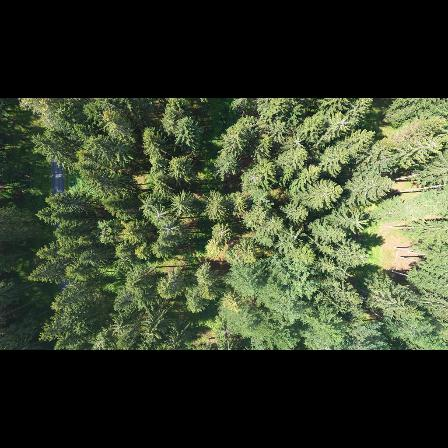Sick: (212, 221, 234, 243), (287, 134, 308, 154), (152, 205, 169, 224)
